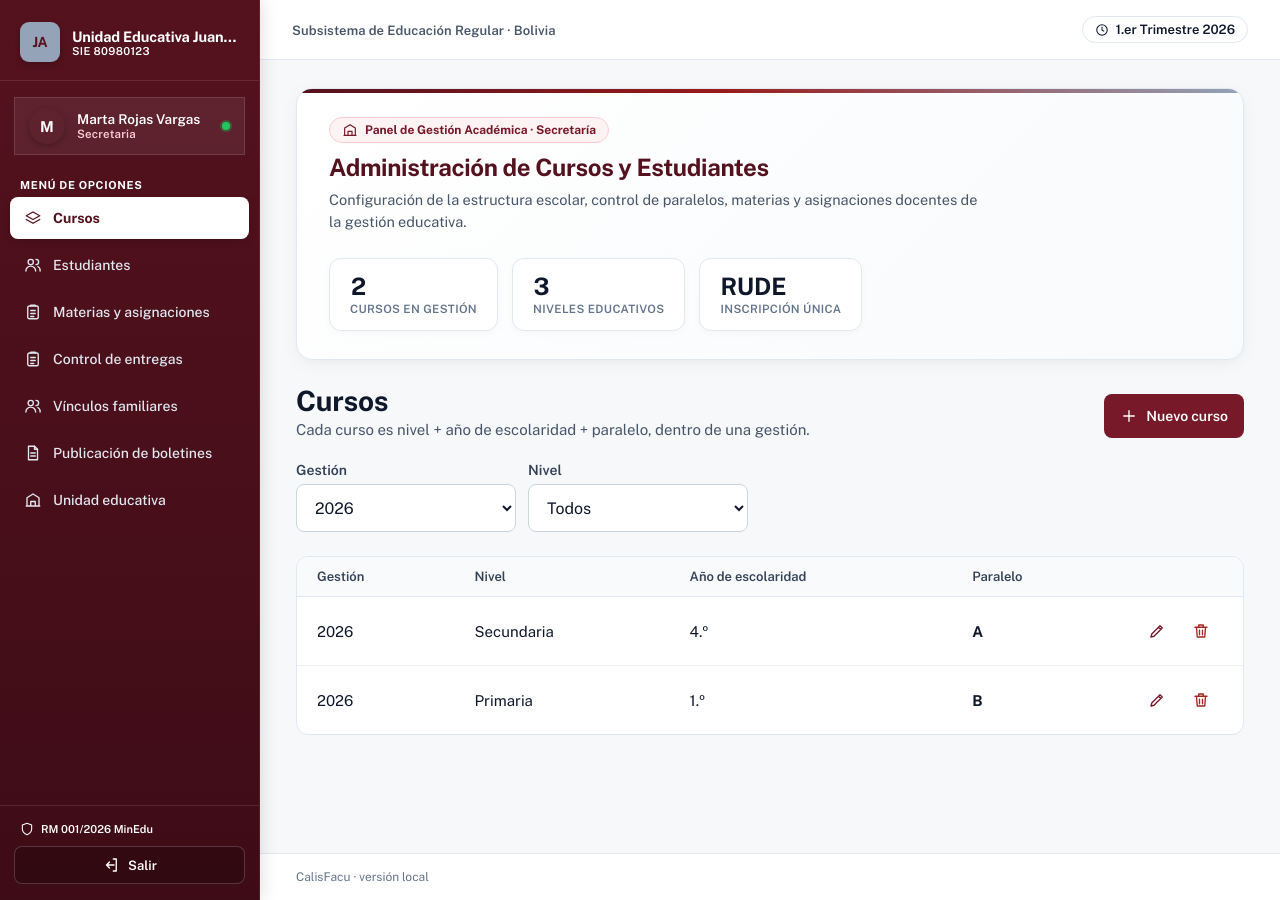
Scenario: Cursos (US-18, criterio 1) › debe registrar un curso y mostrar el mensaje de éxito
Click the button "Nuevo curso" at point(1174, 416), box [1104, 394, 1244, 438]
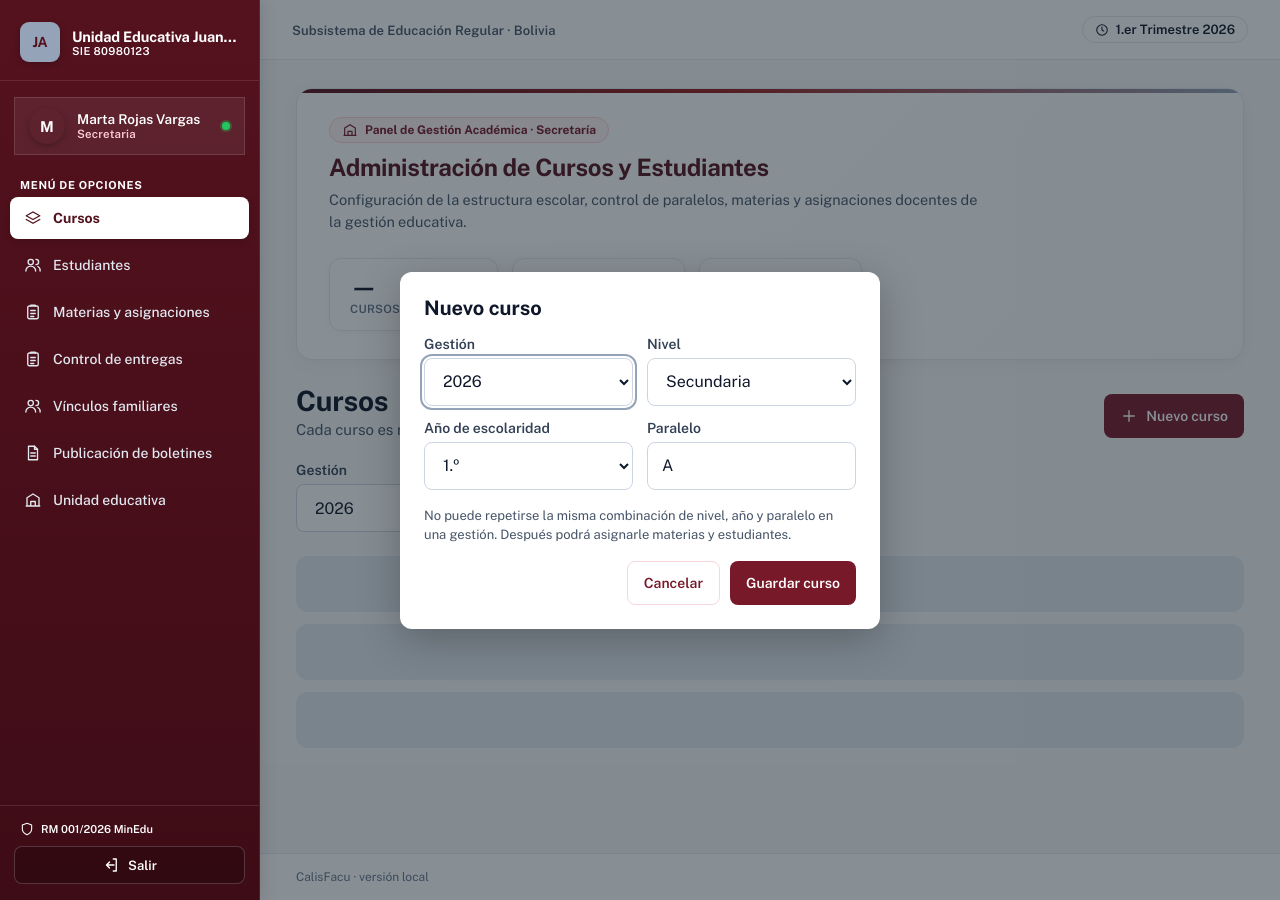
Select "Primaria" in the dropdown labelled "Nivel" at point(752, 382), box [647, 358, 856, 406]
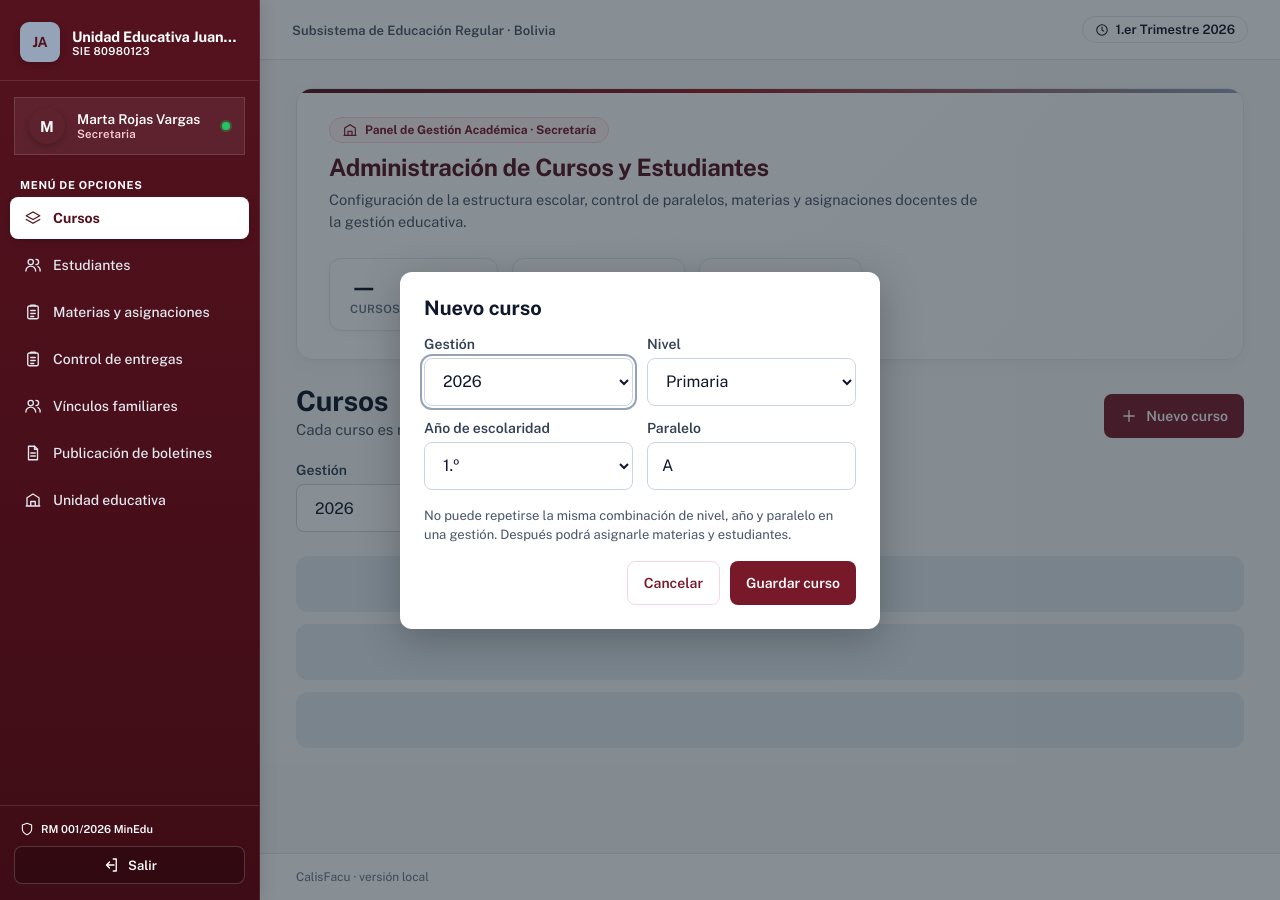
Replace the text in the field labelled "Paralelo" with "c" at point(752, 466), box [647, 442, 856, 490]
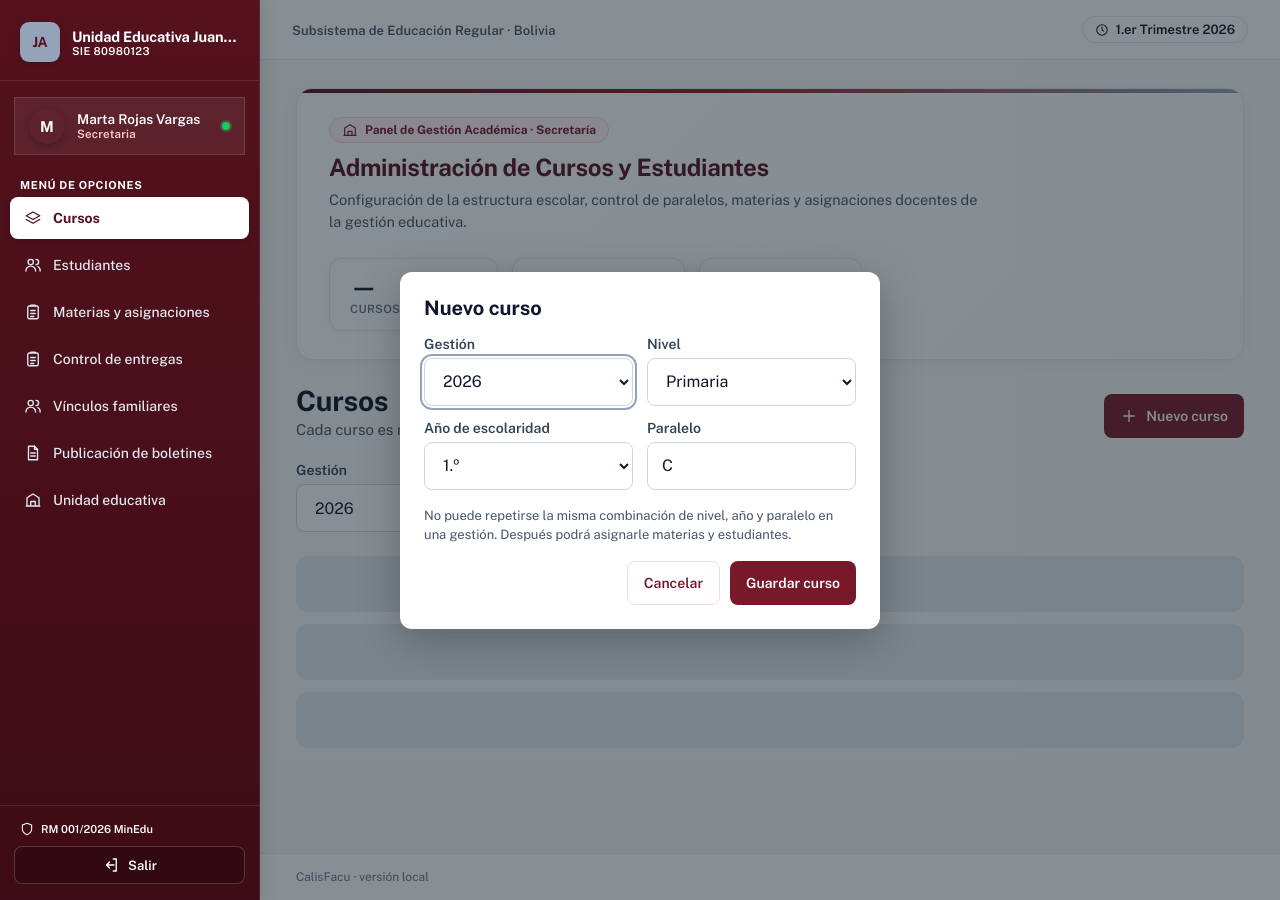
Click the button "Guardar curso" at point(793, 582), box [730, 560, 856, 604]
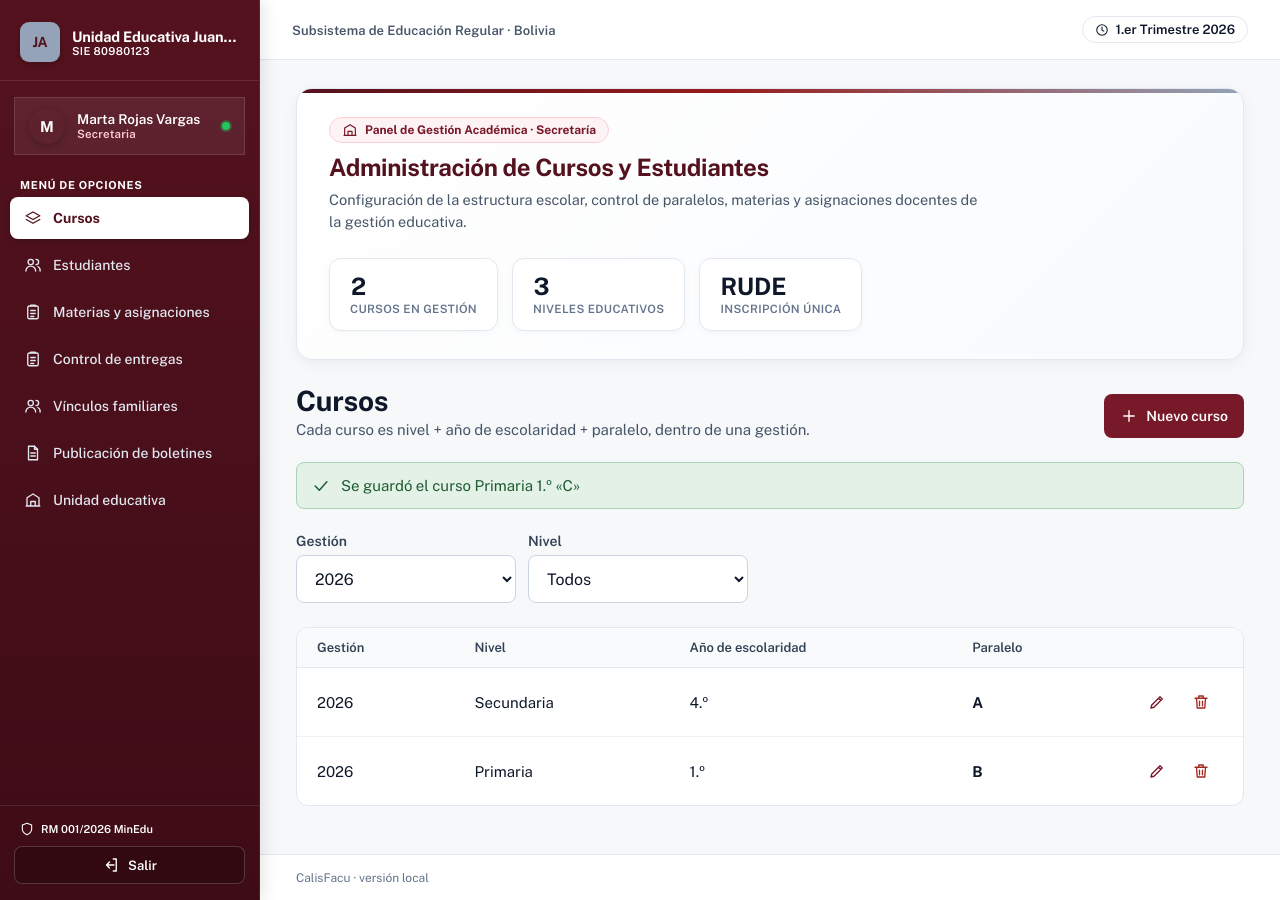
Check: the text "Se guardó el curso Primaria 1.º «C»" is shown, box [341, 475, 580, 496]
